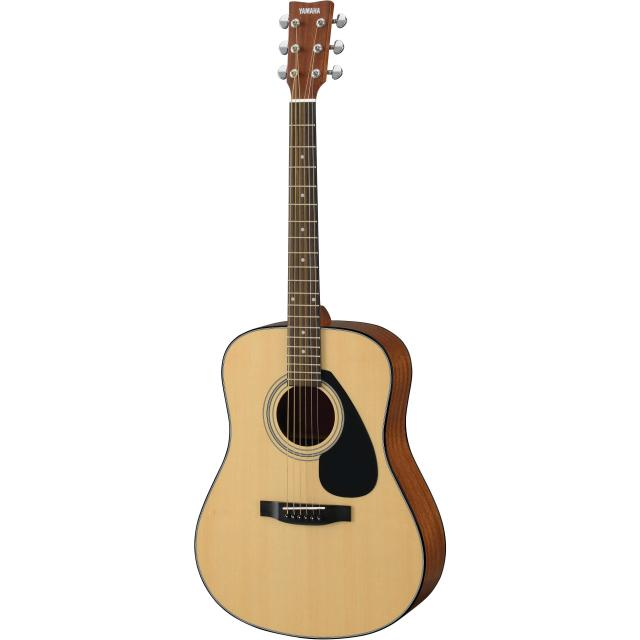guitar: (195, 0, 445, 638)
